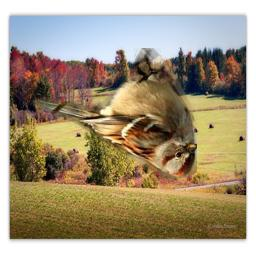Sparrow: (33, 48, 197, 178)
